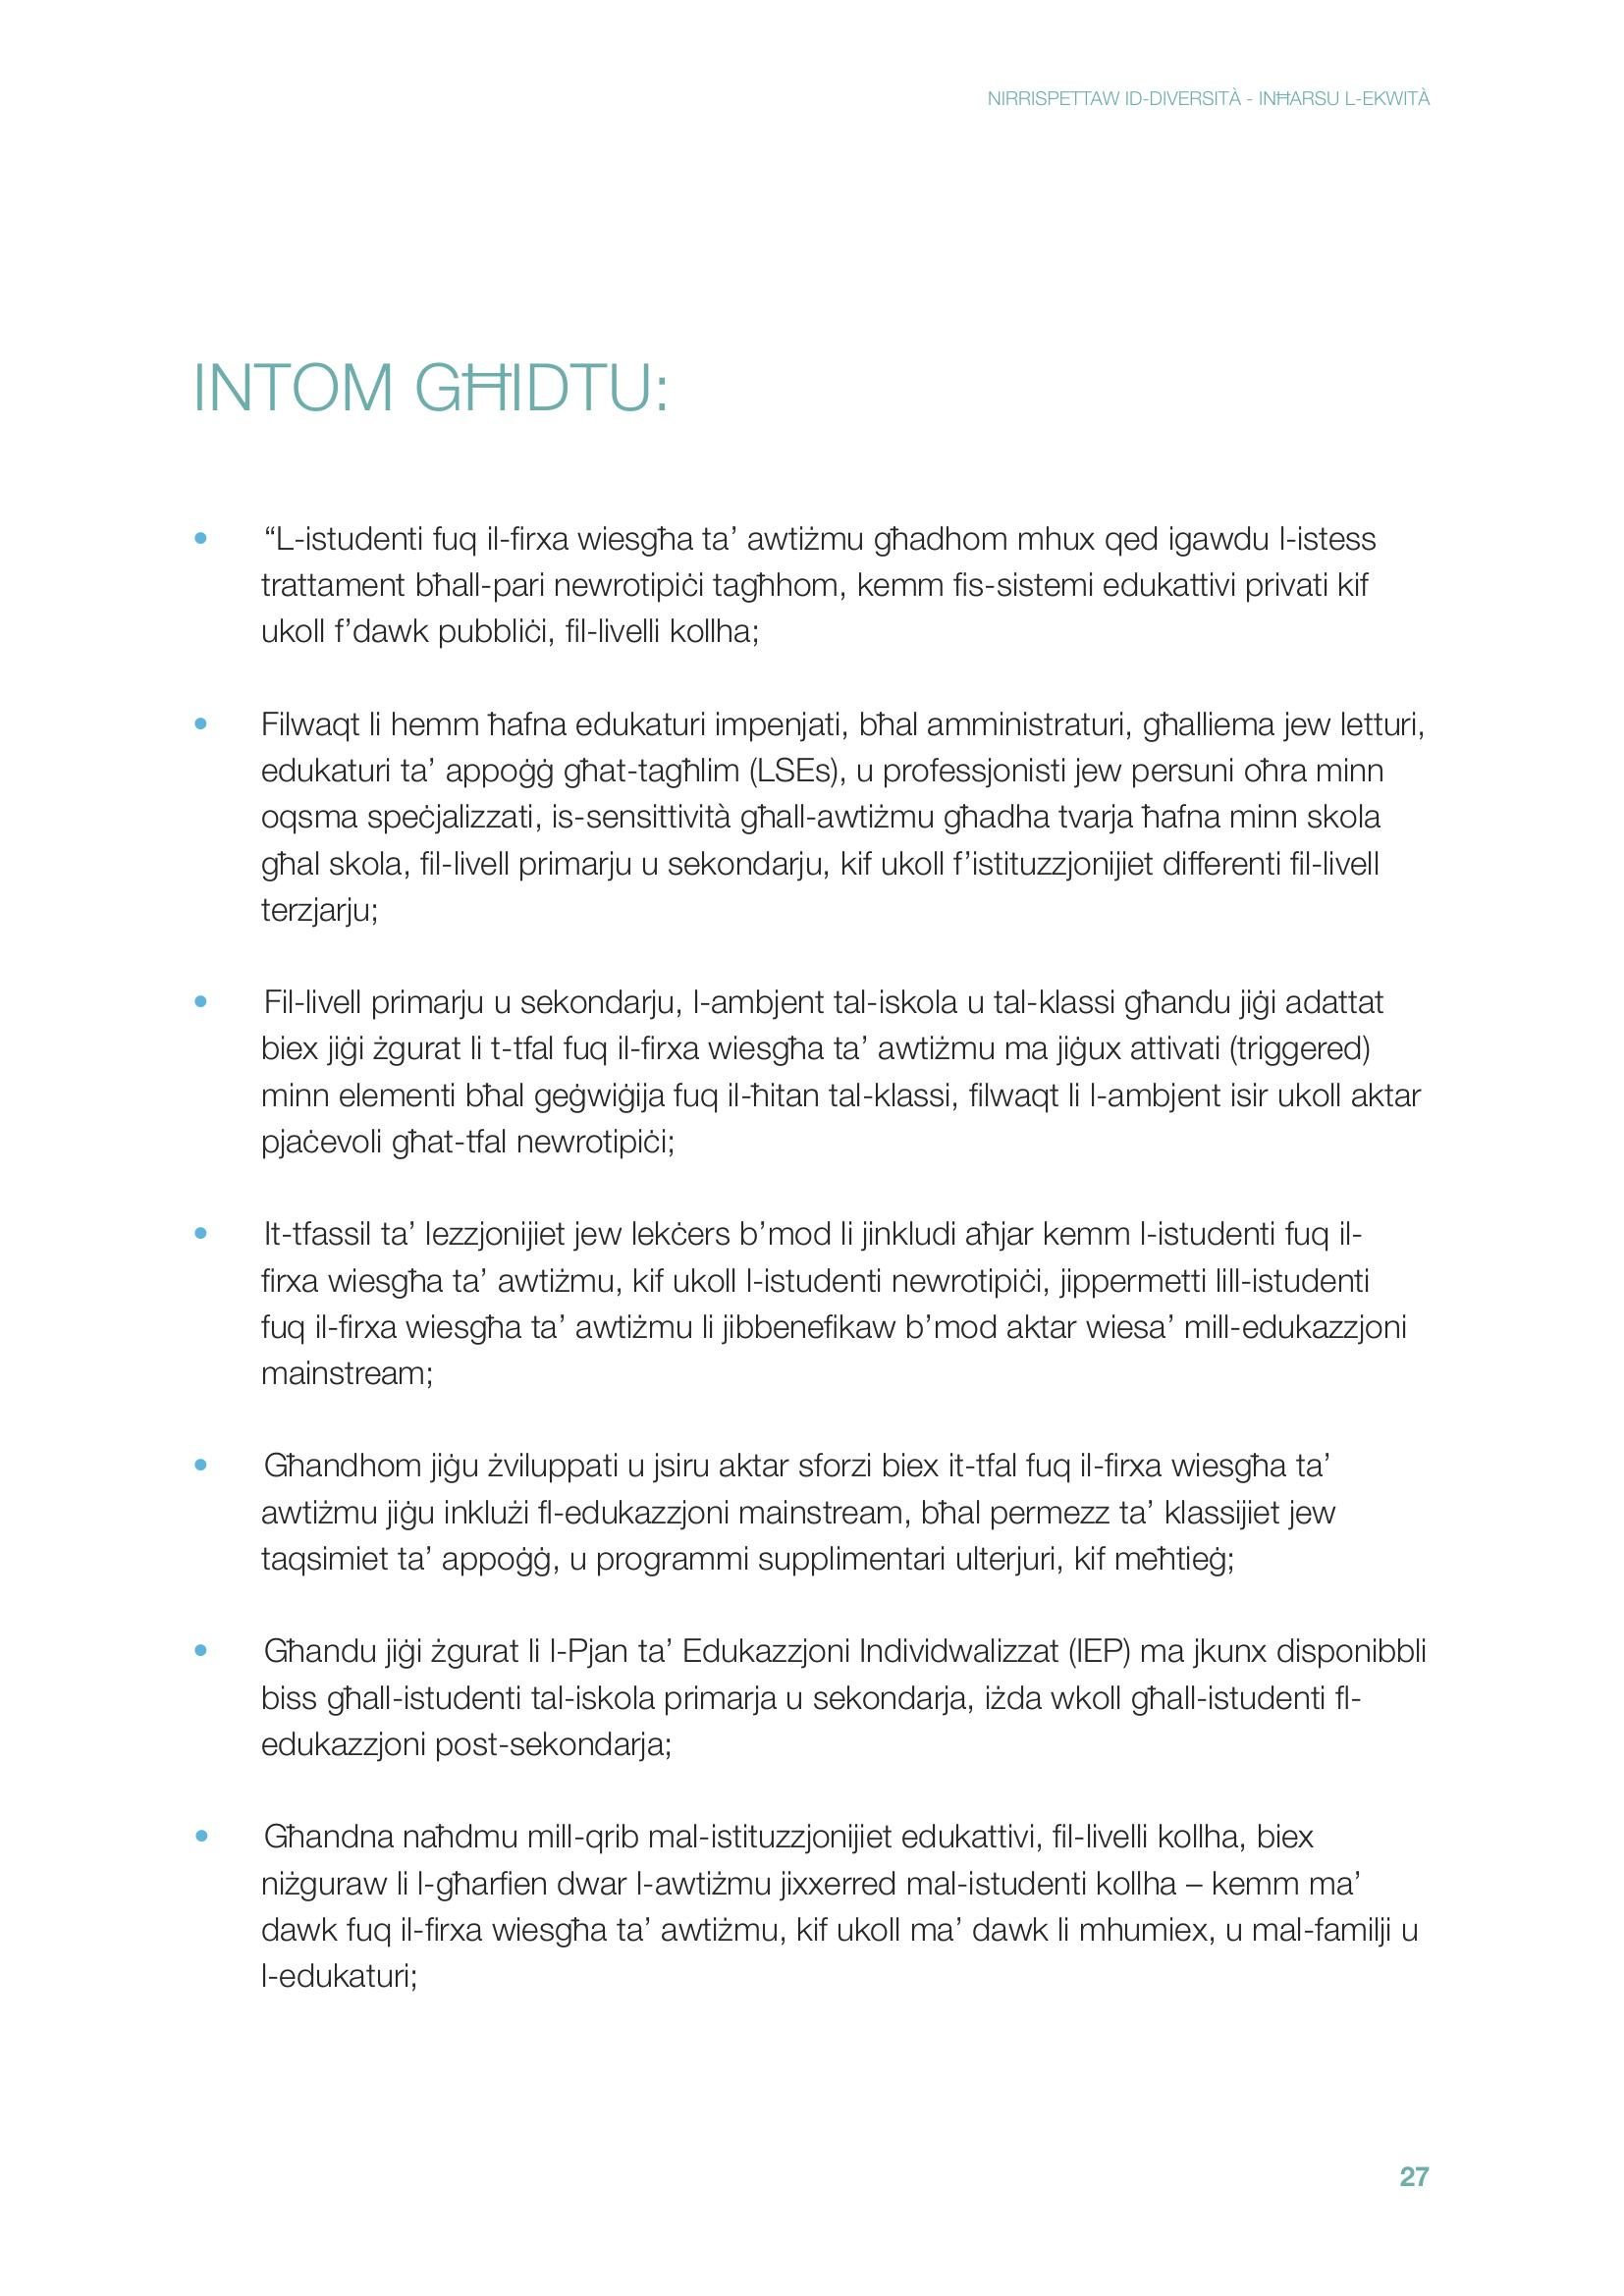text: (155, 327, 1450, 2024)
